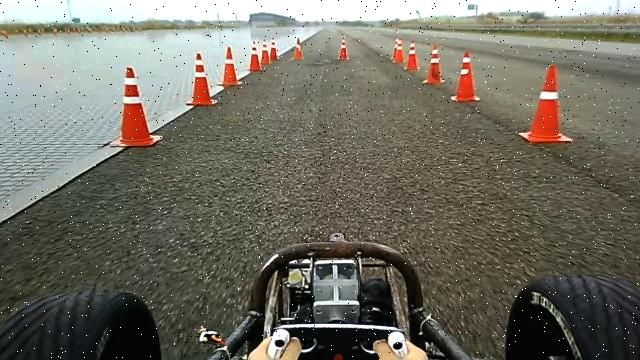red cone: (518, 63, 574, 144), (109, 66, 162, 148), (185, 52, 218, 106), (450, 49, 481, 102), (217, 45, 242, 87), (422, 44, 445, 85), (246, 39, 262, 72), (404, 39, 420, 71), (290, 35, 306, 60), (390, 36, 404, 64), (336, 35, 349, 61), (260, 38, 271, 64), (269, 36, 280, 61)
